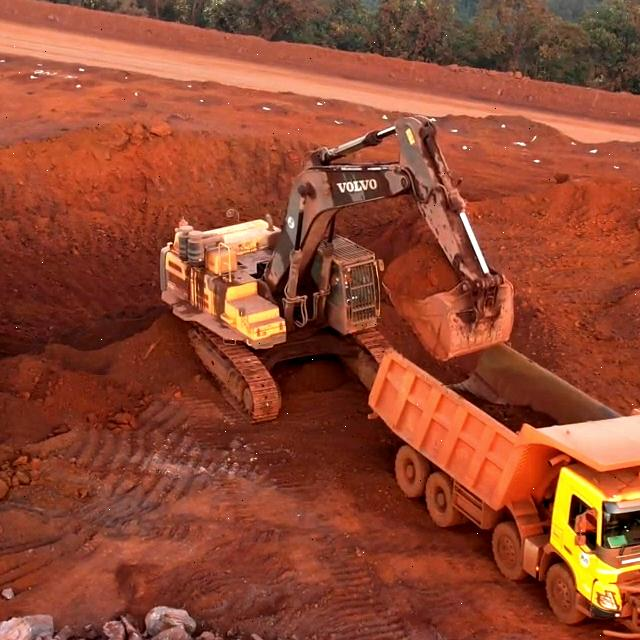Dumper truck: (501, 450, 640, 577)
Excavator: (167, 213, 374, 390)
